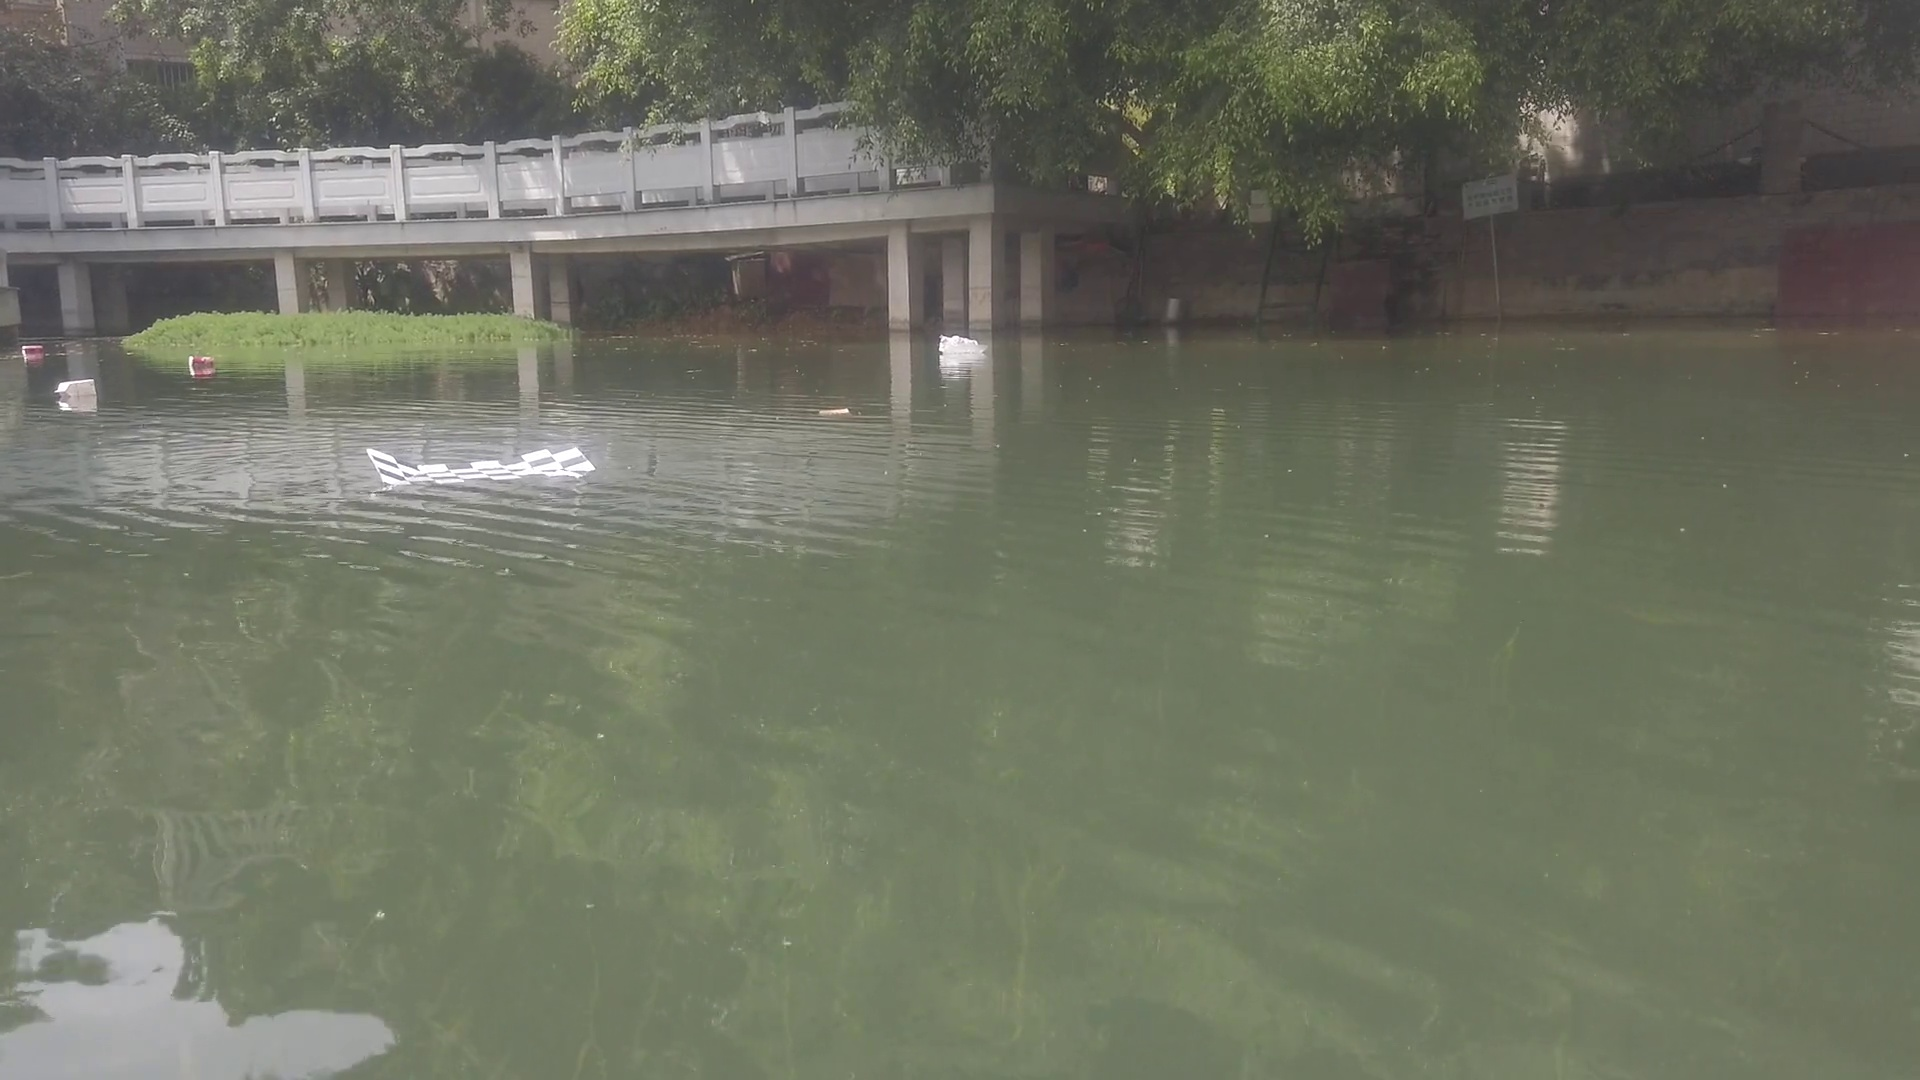bottle: (187, 355, 218, 369), (20, 344, 42, 357)
carton: (55, 376, 100, 402)
paper: (365, 443, 597, 487), (819, 405, 851, 421)
plastic: (934, 334, 990, 356)
